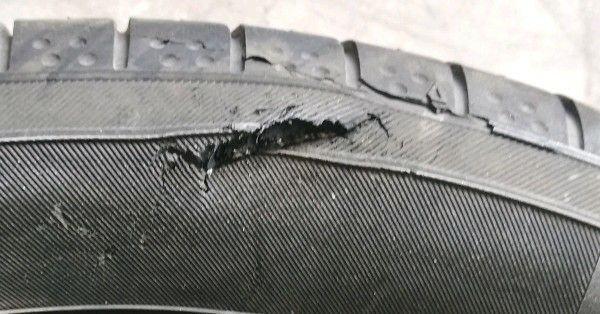cut: (149, 115, 391, 172)
